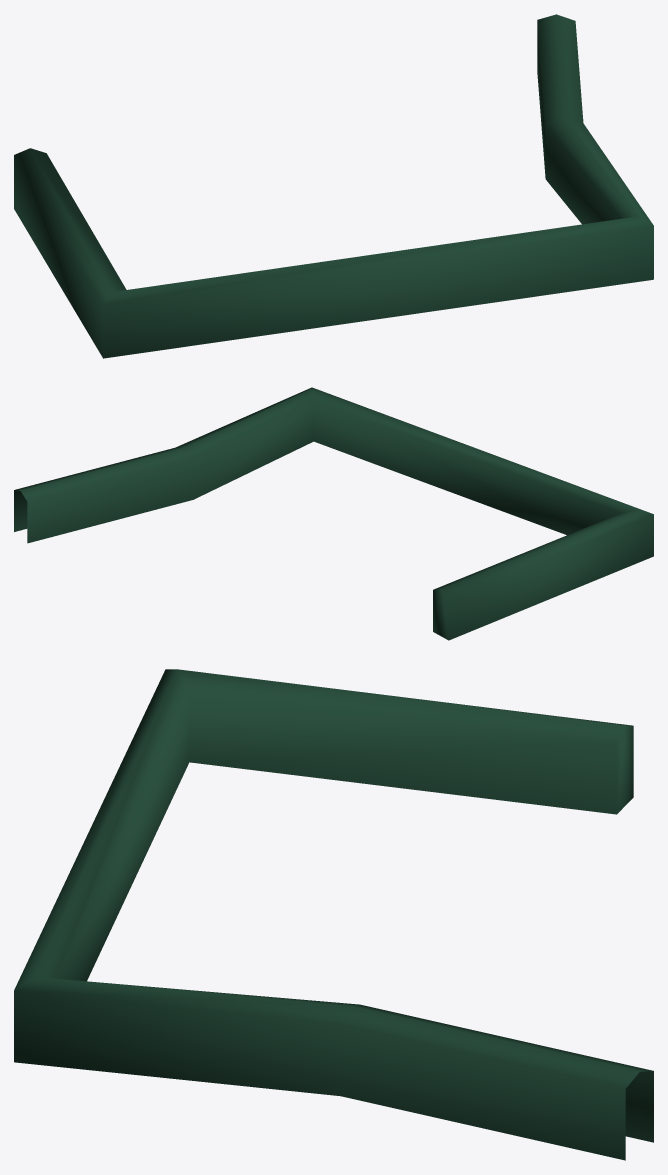
Rendered from Ring51.fbx.
3 renders of one model, top to bottom at view 1: azimuth 30°, elevation 25°; view 2: azimuth 150°, elevation 25°; view 3: azimuth 270°, elevation 25°, orthographic. The views are drawn at different scales.
Visible parts, largest first — view 1: Ring51; view 2: Ring51; view 3: Ring51.
Part boxes in pixels (x1,y1,x2,y2): Ring51: (14,14,653,358); Ring51: (14,387,653,640); Ring51: (14,669,653,1160).
Bounding box in the file's own units: 4509 × 400 × 2908.
